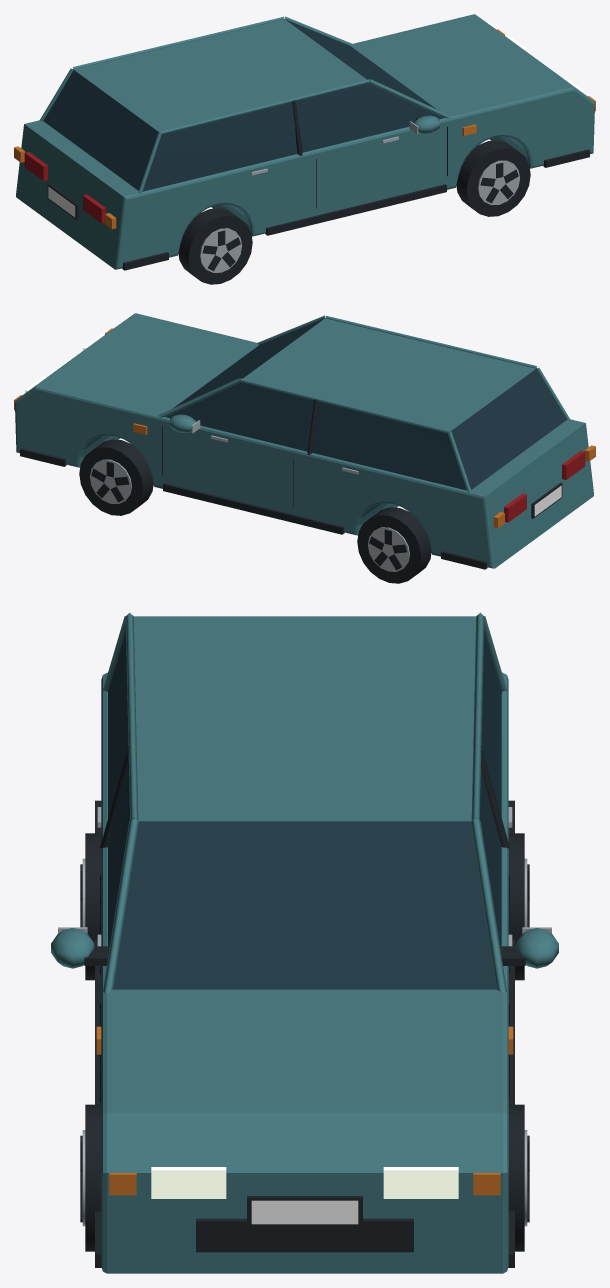
File: estate-near.glb
3 renders of one model, top to bottom at view 1: azimuth 30°, elevation 25°; view 2: azimuth 150°, elevation 25°; view 3: azimuth 270°, elevation 25°, orthographic. The views are drawn at different scales.
Visible parts, largest first — view 1: body_paint, body_glass, wheel_surface (×2), body_trim, body_brake; view 2: body_paint, body_glass, wheel_surface (×2), body_trim, body_brake; view 3: body_paint, body_glass, body_trim, wheel_surface (×4), body_headlamp, registration_text.
Part boxes in pixels (x1,y1,x2,y2): body_paint: [16, 14, 594, 269]; body_glass: [43, 19, 443, 191]; wheel_surface (×2): [178, 140, 530, 284]; body_trim: [47, 100, 589, 270]; body_brake: [24, 152, 105, 223]; body_paint: [15, 313, 593, 568]; body_glass: [166, 318, 566, 490]; wheel_surface (×2): [79, 439, 431, 583]; body_trim: [20, 399, 562, 569]; body_brake: [504, 451, 585, 522]; body_paint: [51, 612, 558, 1273]; body_glass: [108, 632, 501, 989]; body_trim: [84, 746, 525, 1267]; wheel_surface (×4): [80, 833, 529, 1251]; body_headlamp: [151, 1167, 458, 1198]; registration_text: [251, 1200, 358, 1224].
Bounding box in the file's own units: 4.93 × 1.52 × 2.23.
